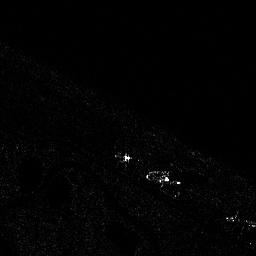ship: (144, 169, 183, 186), (116, 151, 135, 163)
